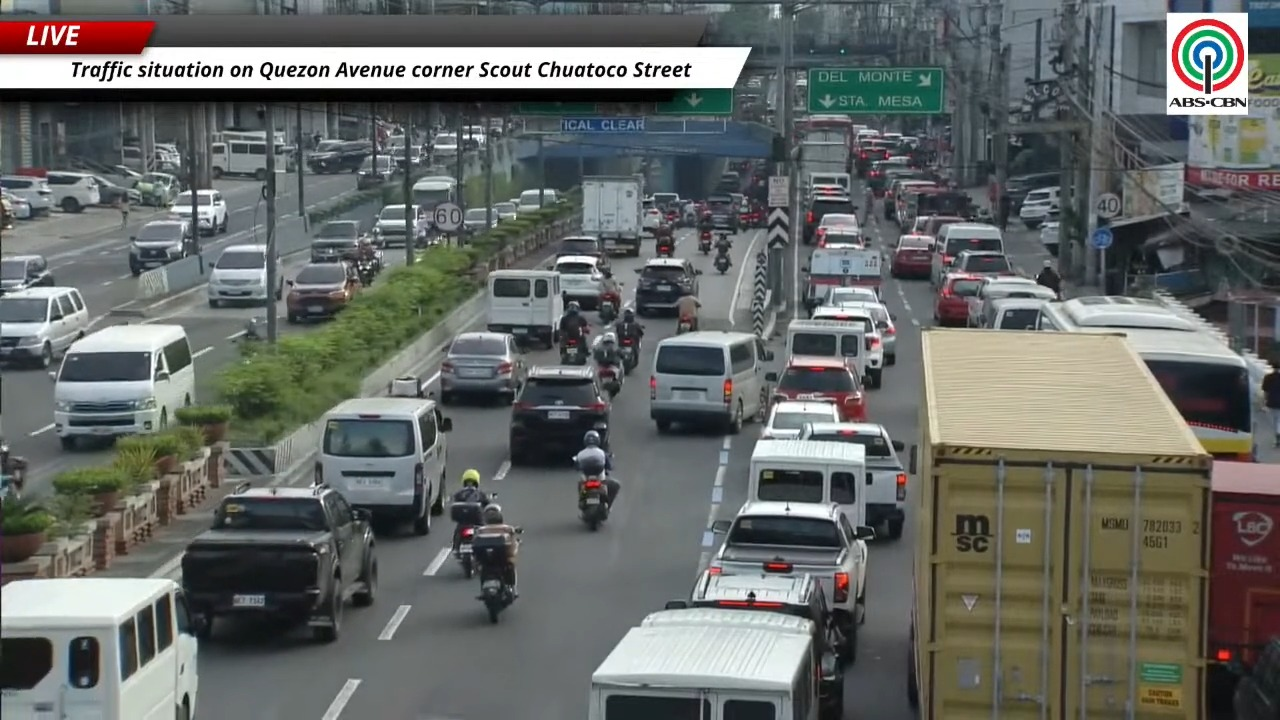bus: (1038, 296, 1254, 461), (0, 579, 198, 719), (210, 139, 267, 180), (210, 129, 266, 143)
car: (181, 483, 377, 641), (664, 568, 843, 654), (799, 423, 907, 538), (509, 366, 610, 465), (0, 286, 89, 367), (766, 356, 866, 421), (812, 302, 886, 388), (439, 331, 525, 404), (286, 261, 361, 322), (968, 276, 1056, 327), (634, 258, 701, 315), (838, 300, 895, 365), (128, 219, 193, 275), (761, 400, 840, 438), (552, 255, 603, 308), (170, 189, 228, 235), (934, 273, 982, 326), (803, 196, 855, 244), (884, 178, 935, 226), (978, 297, 1051, 330), (45, 171, 100, 212), (0, 175, 54, 216), (548, 235, 611, 270), (1005, 172, 1060, 212), (310, 220, 362, 262), (306, 140, 372, 173), (0, 254, 53, 292), (372, 204, 418, 246), (890, 234, 933, 278), (1018, 186, 1060, 230), (815, 213, 865, 248), (135, 172, 181, 207), (950, 251, 1015, 275), (93, 175, 140, 206), (356, 155, 398, 189), (706, 192, 739, 232), (818, 286, 880, 307), (921, 215, 966, 240), (0, 192, 31, 228), (517, 188, 559, 214), (462, 207, 497, 233), (431, 133, 460, 161), (1039, 219, 1060, 257), (807, 184, 847, 200), (819, 213, 859, 228), (642, 208, 663, 233), (494, 201, 517, 221)
motorcycle: (473, 535, 514, 623), (578, 475, 609, 530), (0, 440, 28, 499), (597, 363, 624, 395), (560, 337, 586, 365), (619, 338, 637, 373), (599, 293, 619, 324), (356, 259, 378, 286), (656, 238, 673, 257), (714, 254, 730, 274), (676, 316, 693, 334), (698, 231, 711, 254), (716, 231, 732, 248), (488, 493, 496, 501)
truck: (906, 329, 1211, 719), (708, 501, 873, 662), (1207, 462, 1279, 712), (801, 246, 883, 311), (581, 176, 643, 256), (800, 129, 851, 189)
